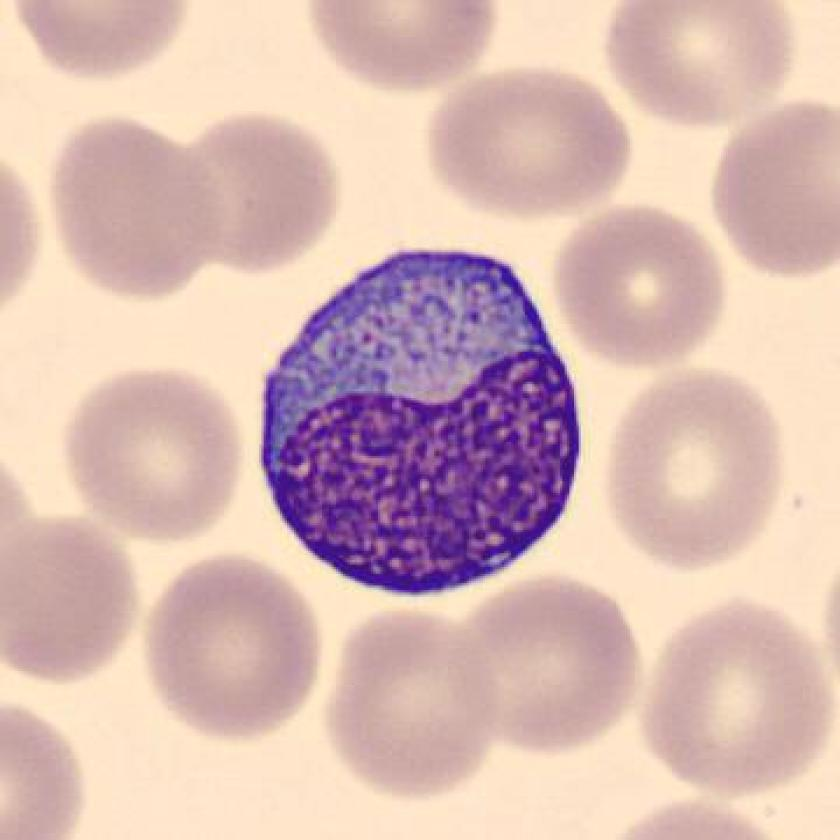monocyte: (244, 223, 603, 633)
